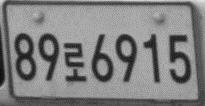1: (142, 33, 162, 83)
5: (168, 34, 191, 84)
6: (90, 33, 113, 82)
8: (13, 32, 36, 81), (115, 33, 137, 82)
9: (37, 32, 60, 81)
로: (63, 41, 86, 82)
